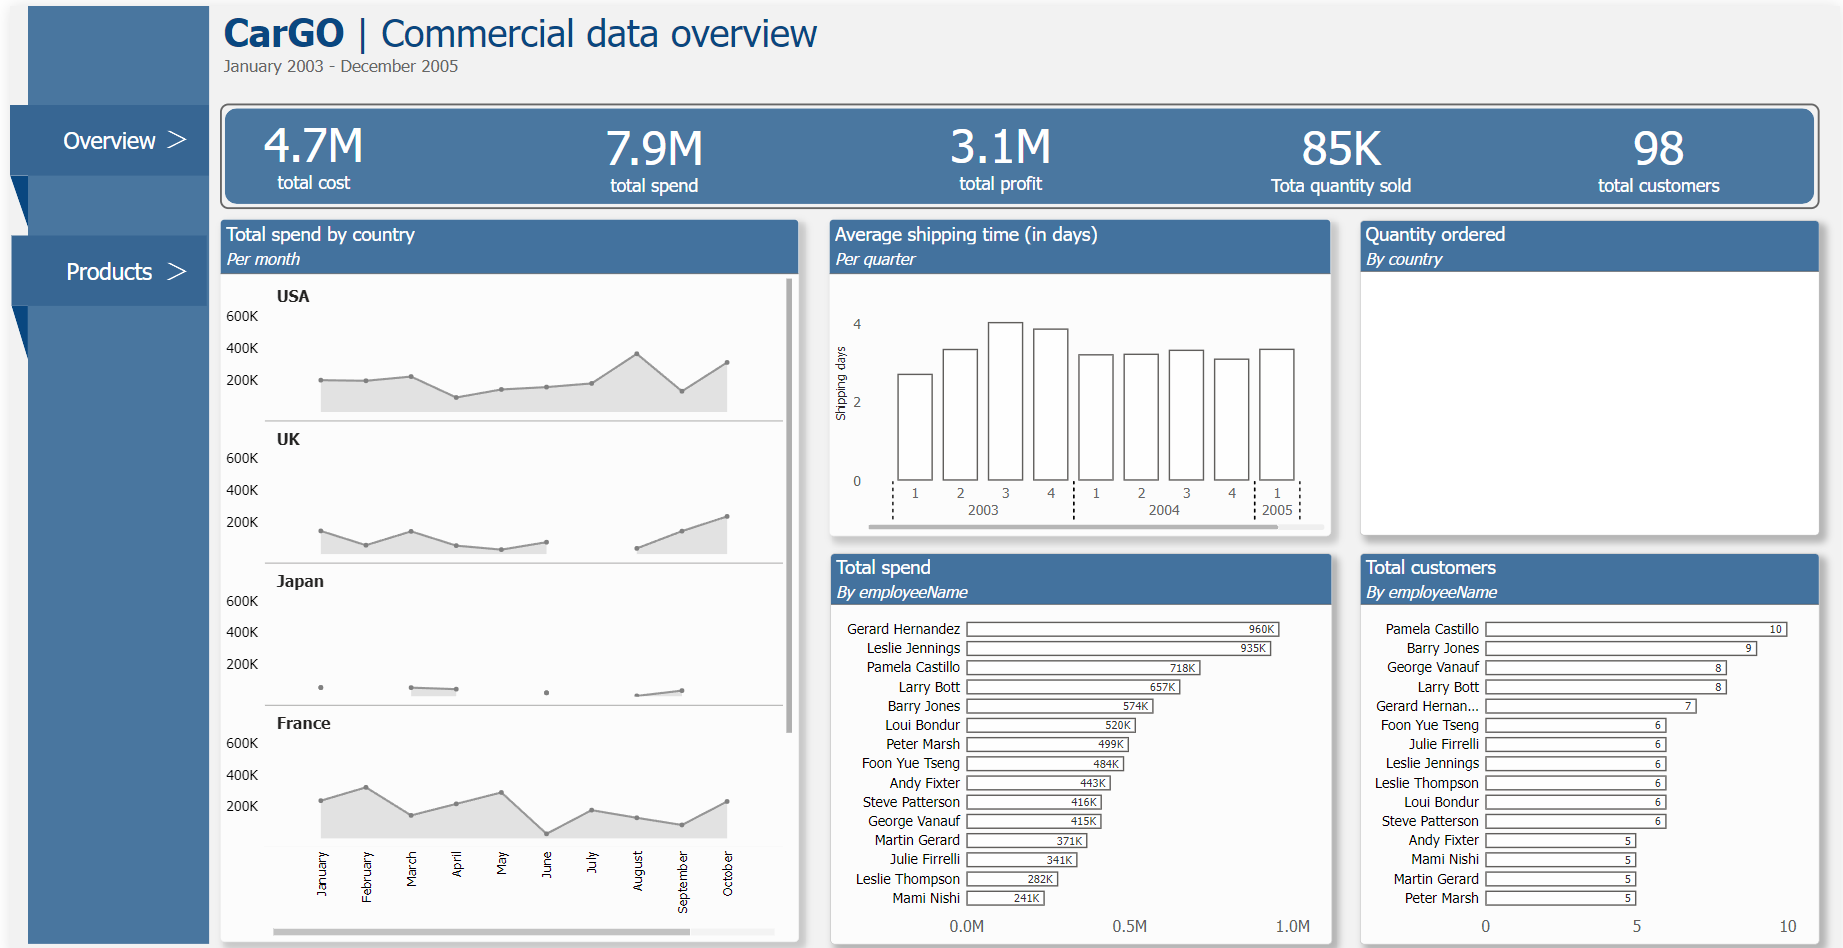

Layout of this report page (visuals, bound fields, positions):
{"tool":"powerbi","page":{"name":"Overview","canvas":[2600,1350],"ordinal":0},"visuals":[{"type":"shape","box":[25,0,257.5,1332.5],"z":0},{"type":"shape","box":[297.5,137.5,2272.5,150],"z":2000},{"type":"lineChart","title":"Total spend  by country","fields":{"Y":["Data set.total_spend"],"Category":["Dates_table.Month_name"],"Rows":["Data set.country"]},"box":[297.5,302.5,822.5,1027.5],"z":3000},{"type":"textbox","box":[297.5,0,872.5,110],"z":6000},{"type":"filledMap","title":"Quantity ordered","fields":{"Category":["Data set.country"]},"box":[1917.5,305,652.5,447.5],"z":7000},{"type":"card","fields":{"Values":["MeasuresTbl.total sales"]},"box":[1306.3,142.4,201.8,132.3],"z":8000},{"type":"card","fields":{"Values":["MeasuresTbl.total cost"]},"box":[331.1,140.2,201.8,132.3],"z":9000},{"type":"card","fields":{"Values":["MeasuresTbl.total sales"]},"box":[813.1,144.7,201.8,132.3],"z":10000},{"type":"card","fields":{"Values":["MeasuresTbl.total_customers"]},"box":[2232.2,144.7,221.9,132.3],"z":11000},{"type":"card","fields":{"Values":["MeasuresTbl.Tota quantity sold"]},"box":[1770.4,144.7,239.9,132.3],"z":12000},{"type":"slicer","fields":{"Values":["Dates_table.Quarter"]},"box":[56,382.5,206,96],"z":13000},{"type":"slicer","fields":{"Values":["Dates_table.Year"]},"box":[56,266.5,210,94],"z":14000},{"type":"slicer","fields":{"Values":["Data set.ProductLineShort"]},"box":[54,504.5,210,94],"z":15000},{"type":"slicer","fields":{"Values":["Data set.country"]},"box":[52,628.5,210,96],"z":16000},{"type":"clusteredBarChart","title":"Total customers","fields":{"Y":["MeasuresTbl.total customers"],"Category":["Data set.employeeName"]},"box":[1917.5,777.5,652.5,555],"z":17000},{"type":"clusteredColumnChart","title":"Average shipping time (in days)","fields":{"Category":["Dates_table.Year","Dates_table.Quarter"],"Y":["MeasuresTbl.Avg_shipping_time"]},"box":[1163.8,303.1,713.7,450.4],"z":18000},{"type":"shape","box":[0,240,25.7,74.3],"z":19000},{"type":"shape","box":[0,140.5,282,100],"z":20000},{"type":"shape","box":[2.5,939.2,22.5,75],"z":21000},{"type":"shape","box":[1.7,839.2,277.5,100],"z":22000},{"type":"clusteredBarChart","title":"Total spend","fields":{"Category":["Data set.employeeName"],"Y":["Data set.total_spend"]},"box":[1165,777.5,712.5,555],"z":23000},{"type":"shape","box":[222.5,876.7,30,25],"z":24000},{"type":"shape","box":[222.5,182.5,30,25],"z":28000}]}

Visuals, with their boxes in screenshot pixels (x1, y1, x2, y2), scaled from the page's 2600x1350 canvas onto the 1843x948 screenshot:
shape: x1=18 y1=0 x2=200 y2=936
shape: x1=211 y1=97 x2=1822 y2=202
"Total spend  by country" lineChart: x1=211 y1=212 x2=794 y2=934
textbox: x1=211 y1=0 x2=829 y2=77
"Quantity ordered" filledMap: x1=1359 y1=214 x2=1822 y2=528
card - MeasuresTbl.total sales: x1=926 y1=100 x2=1069 y2=193
card - MeasuresTbl.total cost: x1=235 y1=98 x2=378 y2=191
card - MeasuresTbl.total sales: x1=576 y1=102 x2=719 y2=195
card - MeasuresTbl.total_customers: x1=1582 y1=102 x2=1740 y2=195
card - MeasuresTbl.Tota quantity sold: x1=1255 y1=102 x2=1425 y2=195
slicer - Dates_table.Quarter: x1=40 y1=269 x2=186 y2=336
slicer - Dates_table.Year: x1=40 y1=187 x2=189 y2=253
slicer - Data set.ProductLineShort: x1=38 y1=354 x2=187 y2=420
slicer - Data set.country: x1=37 y1=441 x2=186 y2=509
"Total customers" clusteredBarChart: x1=1359 y1=546 x2=1822 y2=936
"Average shipping time (in days)" clusteredColumnChart: x1=825 y1=213 x2=1331 y2=529
shape: x1=0 y1=169 x2=18 y2=221
shape: x1=0 y1=99 x2=200 y2=169
shape: x1=2 y1=660 x2=18 y2=712
shape: x1=1 y1=589 x2=198 y2=660
"Total spend" clusteredBarChart: x1=826 y1=546 x2=1331 y2=936
shape: x1=158 y1=616 x2=179 y2=633
shape: x1=158 y1=128 x2=179 y2=146
